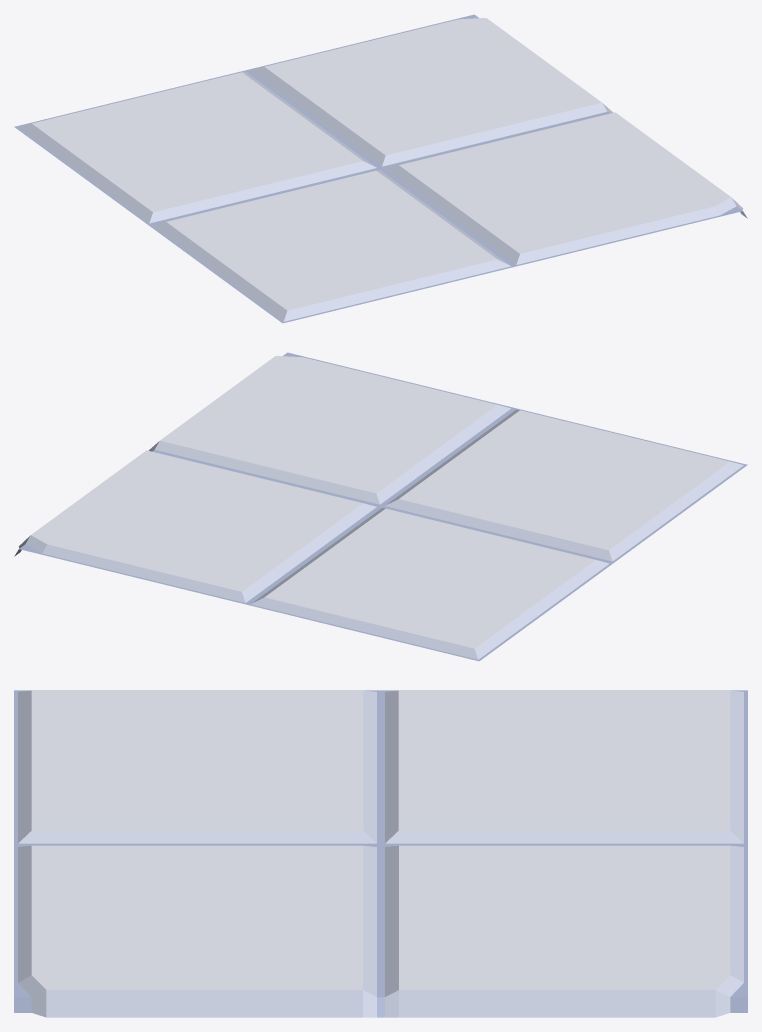
Rendered from Tile_Floor_Edge_Cap.fbx.
3 views of the same model, one above another, from view 1: azimuth 30°, elevation 25°; view 2: azimuth 150°, elevation 25°; view 3: azimuth 270°, elevation 25° (orthographic). The views are drawn at different scales.
Parts seen in each view (by area): view 1: Tile_Floor_Cap; view 2: Tile_Floor_Cap; view 3: Tile_Floor_Cap.
Boxes of the visible parts, x1,y1,x2,y2 form: Tile_Floor_Cap: (14,14,747,323); Tile_Floor_Cap: (14,352,747,661); Tile_Floor_Cap: (14,690,747,1017).
Bounding box in the file's own units: 203 × 5.9 × 200.
Materials: 1 (1 with a texture image).
